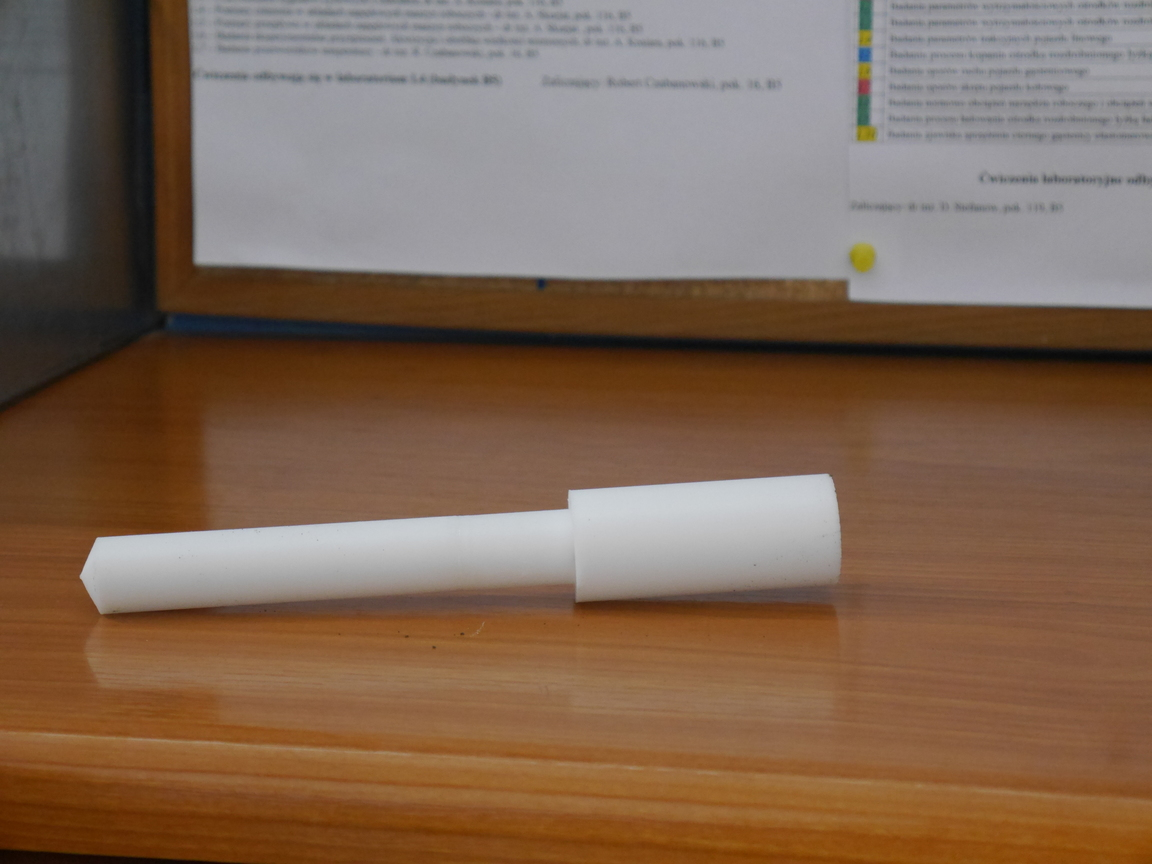cargo_g: (82, 474, 842, 617)
